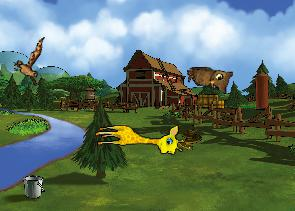eagle: (9, 37, 51, 89)
giraffe: (94, 124, 184, 156)
owl: (186, 66, 233, 95)
